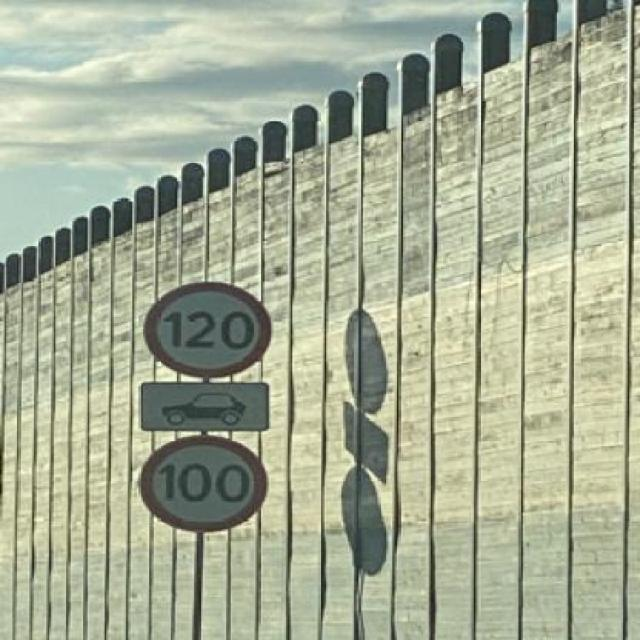forb_speed_over_100: (138, 435, 269, 534)
forb_speed_over_120: (146, 282, 274, 380)
